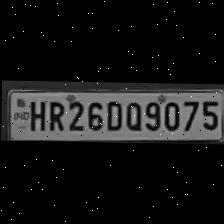0: (160, 98, 180, 130)
2: (64, 98, 84, 132)
5: (196, 96, 220, 130)
6: (82, 98, 102, 131)
7: (179, 98, 197, 132)
9: (141, 98, 161, 131)
D: (101, 97, 121, 131)
H: (24, 96, 43, 130)
Q: (122, 98, 142, 132)
R: (42, 97, 64, 132)
